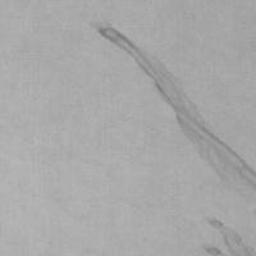Water spot: (90, 20, 256, 220), (204, 216, 256, 256)
